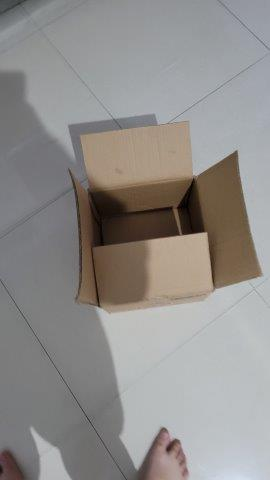kardus: (67, 119, 264, 313)
